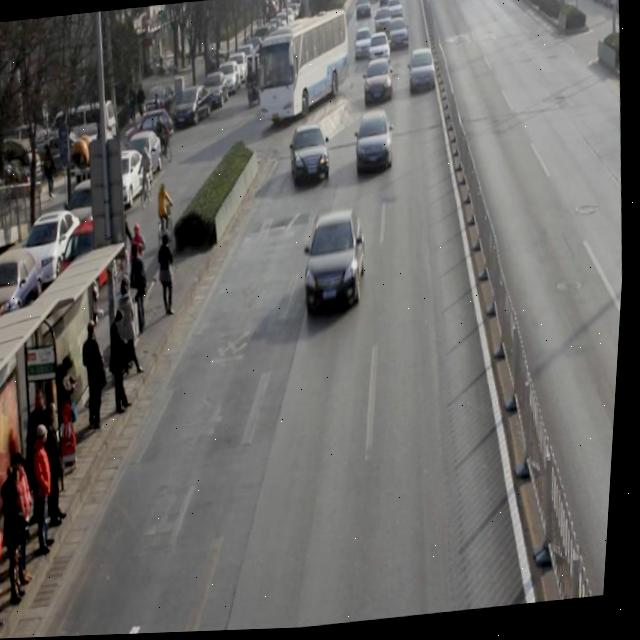car: (303, 213, 375, 317), (354, 113, 399, 182), (289, 126, 336, 190), (361, 60, 397, 112), (406, 52, 439, 103), (367, 36, 395, 74), (387, 21, 411, 57), (353, 31, 376, 67)
van: (252, 13, 352, 133)
